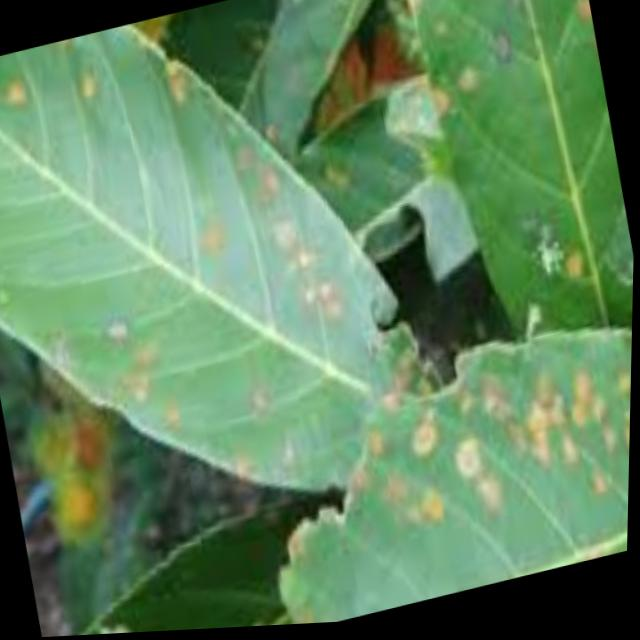Algal Leaf Spot: (270, 204, 358, 347), (218, 128, 297, 222), (524, 369, 587, 475), (378, 464, 459, 545), (114, 335, 181, 424), (577, 366, 633, 468), (452, 440, 513, 530), (426, 66, 487, 135), (545, 234, 602, 304), (151, 46, 200, 109), (406, 403, 444, 471), (475, 368, 514, 426), (67, 66, 115, 105), (3, 71, 33, 111)
